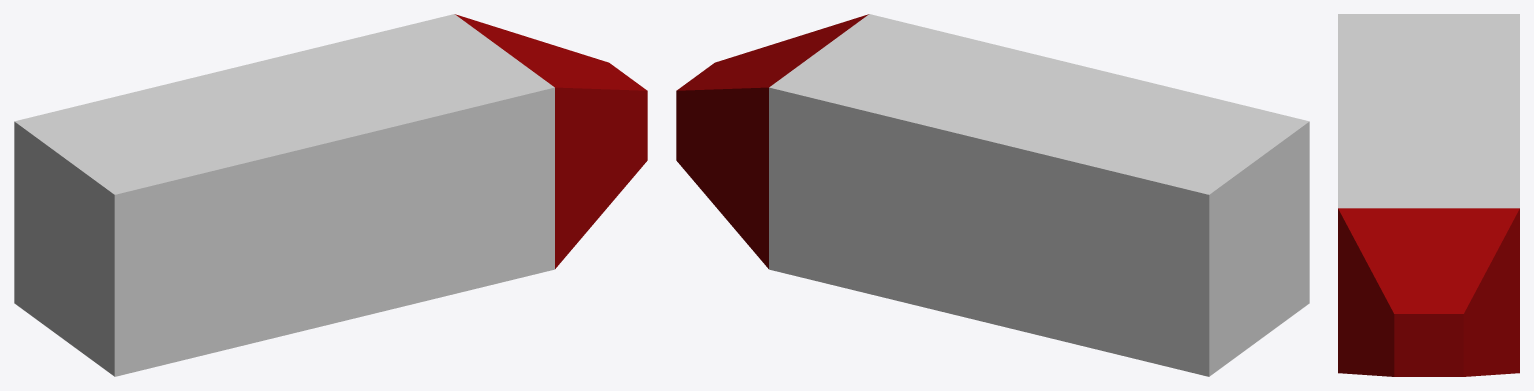
The model's file is rocket.fbx.
3 renders of one model, left to right at view 1: azimuth 30°, elevation 25°; view 2: azimuth 150°, elevation 25°; view 3: azimuth 270°, elevation 25°, orthographic. The views are drawn at different scales.
Parts seen in each view (by area): view 1: Cube; view 2: Cube; view 3: Cube.
Boxes of the visible parts, bbox=[...] form: Cube: bbox=[14, 14, 647, 376]; Cube: bbox=[676, 14, 1309, 376]; Cube: bbox=[1338, 14, 1519, 376].
Size of the model in its own units: 25.25 by 7.79 by 7.79.
